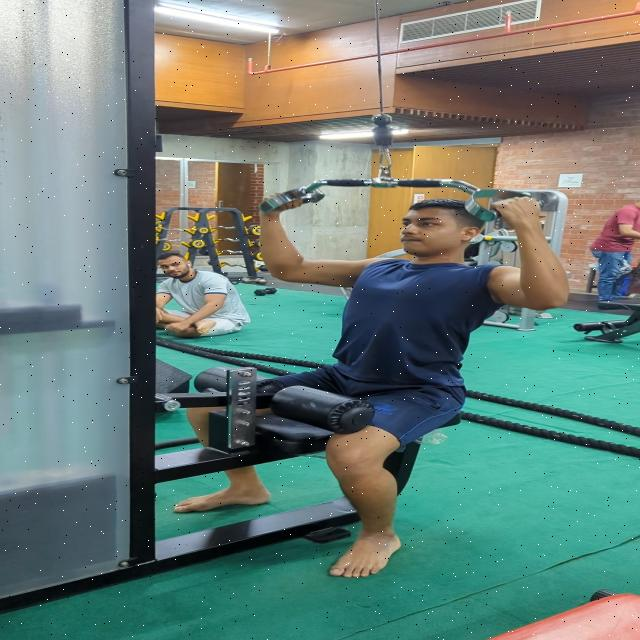Normal_LatPulldown: (172, 185, 575, 583)
